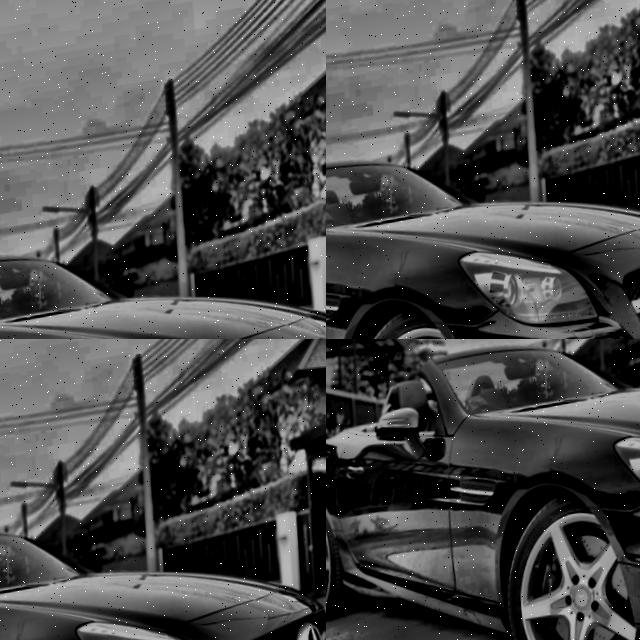license-plate: (5, 339, 326, 435), (0, 206, 151, 334)
